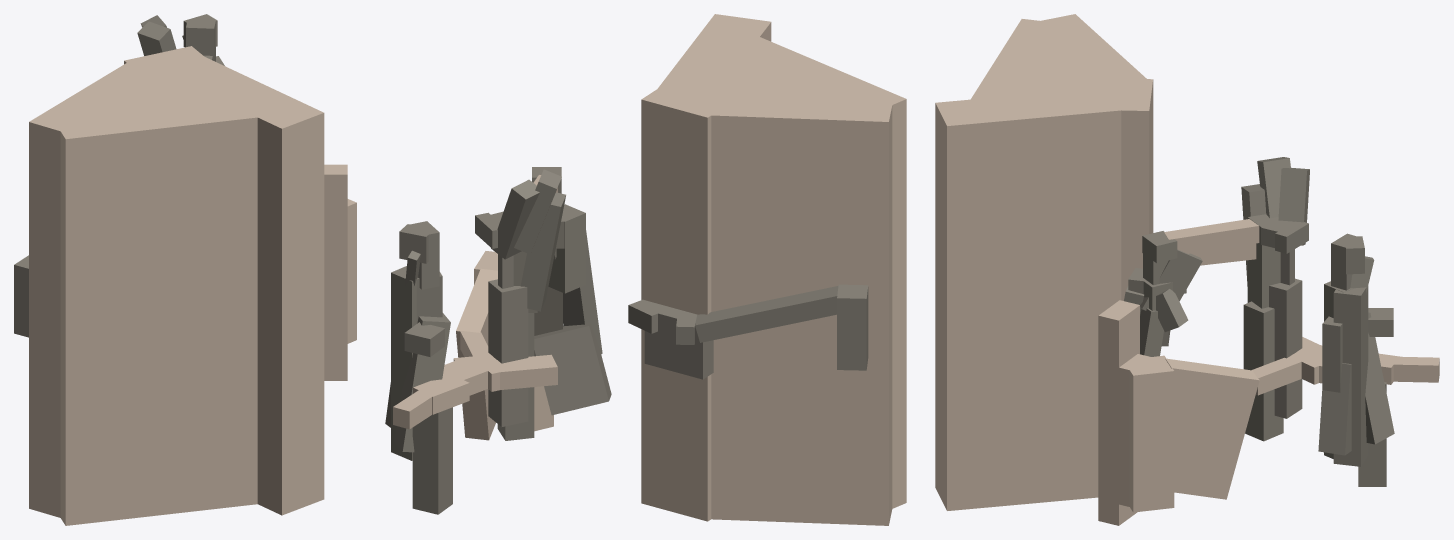
File: p_Thunering Pass.fbx
The picture shows the model from 3 angles, left to right: view 1: azimuth 30°, elevation 25°; view 2: azimuth 150°, elevation 25°; view 3: azimuth 270°, elevation 25°; orthographic projection. The views are drawn at different scales.
Visible parts, largest first — view 1: Wall_Smell__92_, Wall_Smell__91_, Wall_Smell__88_, Wall_Smell__87_, Wall_Smell__95_, Wall_Smell__85_, Wall_Smell__89_, Wall_Smell__86_, Wall_Smell__107_, Wall_Smell__101_; view 2: Wall_Smell__88_, Wall_Smell__89_, Wall_Smell__92_, Wall_Smell__91_, Wall_Smell__37_, Wall_Smell__23__1, Wall_Smell__78_, Wall_Smell__38_, Wall_Smell__75_, Wall_Smell__18__1, Wall_Smell__77_, Wall_Smell__86_ (+22 smaller); view 3: Wall_Smell__91_, Wall_Smell__77_, Wall_Smell__85_, Wall_Smell__89_, Wall_Smell__87_, Wall_Smell__92_, Wall_Smell__18__1, Wall_Smell__22__1, Wall_Smell__88_, Wall_Smell__23__1, Wall_Smell__95_, Wall_Smell__35_ (+21 smaller).
Boxes of the visible parts, x1,y1,x2,y2 form: Wall_Smell__92_: (50,94,257,525); Wall_Smell__91_: (162,56,324,515); Wall_Smell__88_: (29,63,164,517); Wall_Smell__87_: (324,164,347,380); Wall_Smell__95_: (88,69,218,127); Wall_Smell__85_: (347,199,356,343); Wall_Smell__89_: (124,46,212,73); Wall_Smell__86_: (14,255,28,337); Wall_Smell__107_: (186,19,215,61); Wall_Smell__101_: (137,21,176,55); Wall_Smell__88_: (711,94,892,525); Wall_Smell__89_: (641,89,731,521); Wall_Smell__92_: (725,36,906,508); Wall_Smell__91_: (657,14,771,96); Wall_Smell__37_: (534,322,611,415); Wall_Smell__23__1: (488,279,528,426); Wall_Smell__78_: (695,286,838,342); Wall_Smell__38_: (412,407,452,514); Wall_Smell__75_: (644,303,713,379); Wall_Smell__18__1: (391,266,416,460); Wall_Smell__77_: (456,268,497,440); Wall_Smell__86_: (837,284,868,370); Wall_Smell__91_: (935,88,1121,510); Wall_Smell__77_: (1165,358,1259,499); Wall_Smell__85_: (1126,355,1174,512); Wall_Smell__89_: (1102,78,1153,300); Wall_Smell__87_: (1098,300,1139,525); Wall_Smell__92_: (970,19,1077,108); Wall_Smell__18__1: (1333,286,1368,466); Wall_Smell__22__1: (1243,301,1283,441); Wall_Smell__88_: (1033,14,1146,87); Wall_Smell__23__1: (1269,278,1302,418); Wall_Smell__95_: (1033,47,1109,97); Wall_Smell__35_: (1318,363,1351,455).
Bounding box in the file's own units: 4348 × 4500 × 5342.
